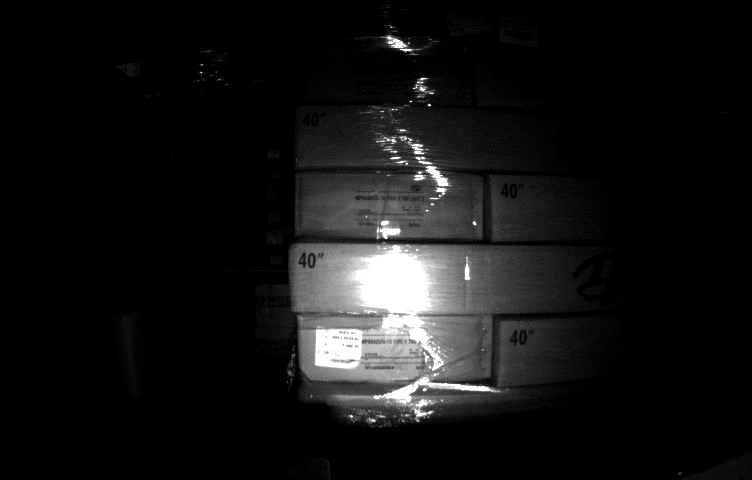True Barcode: (315, 323, 361, 368)
